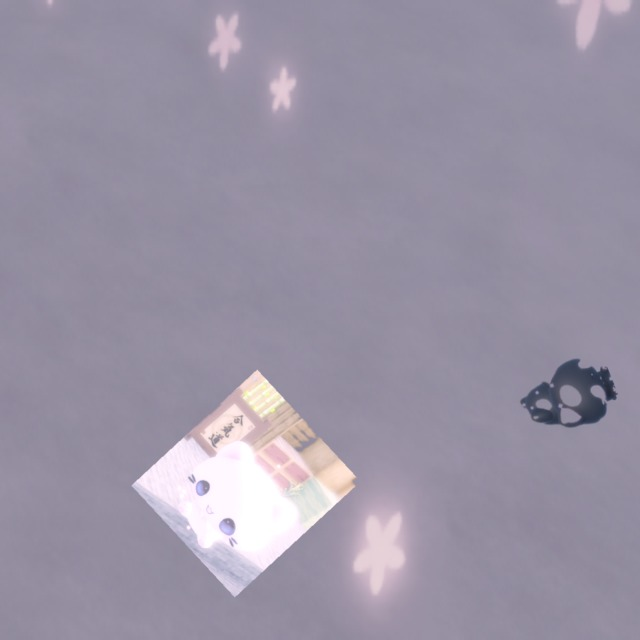urso_branco: (131, 369, 361, 598)
urso_preto: (504, 342, 626, 451)
